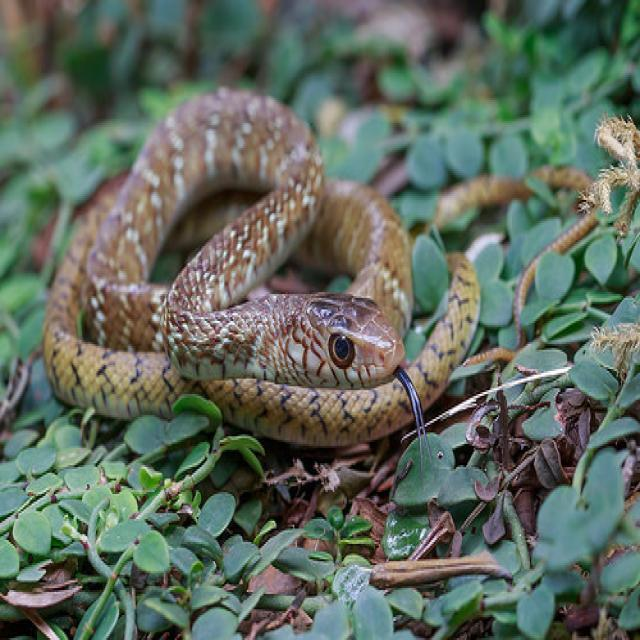Snake: (39, 82, 482, 450)
